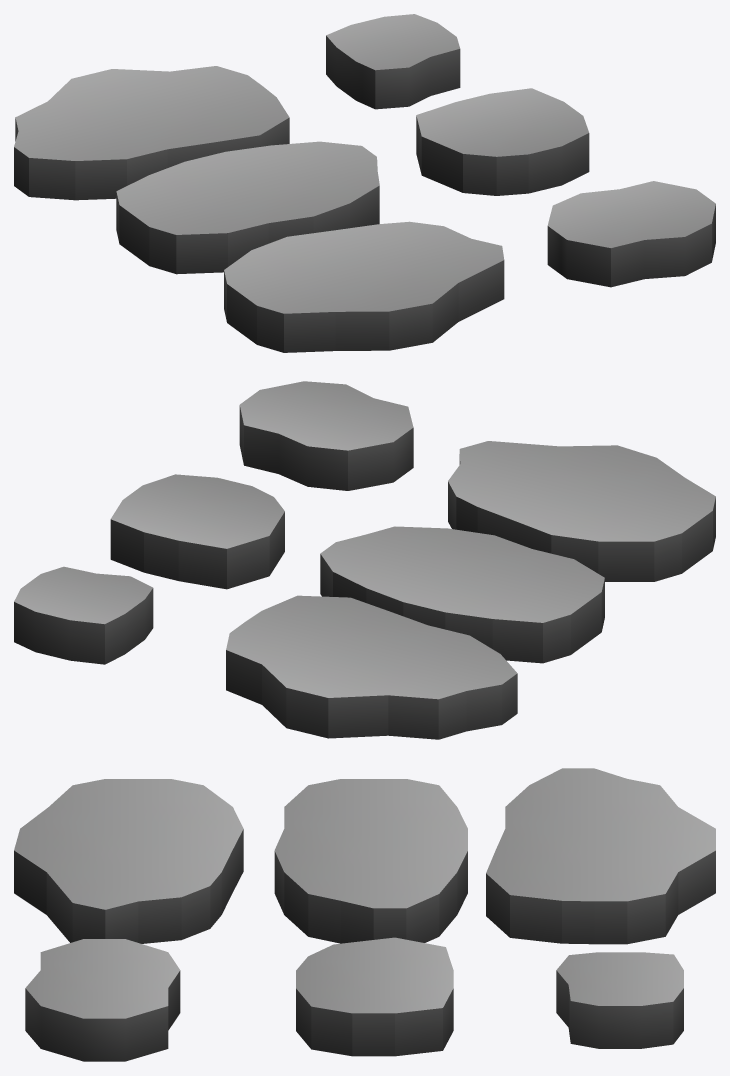
Rendered from Rock Assets.fbx.
3 views of the same model, one above another, from view 1: azimuth 30°, elevation 25°; view 2: azimuth 150°, elevation 25°; view 3: azimuth 270°, elevation 25° (orthographic). The views are drawn at different scales.
Parts seen in each view (by area): view 1: Rock_3, Rock_2, Rock_1, Rock_4, Rock_5, Rock_6; view 2: Rock_2, Rock_3, Rock_1, Rock_4, Rock_5, Rock_6; view 3: Rock_2, Rock_3, Rock_1, Rock_4, Rock_5, Rock_6.
Boxes of the visible parts, x1,y1,x2,y2 form: Rock_3: (224,221,504,352); Rock_2: (14,66,289,200); Rock_1: (116,141,379,274); Rock_4: (416,88,589,195); Rock_5: (547,181,715,287); Rock_6: (326,14,460,109); Rock_2: (226,595,517,739); Rock_3: (448,441,715,581); Rock_1: (320,526,604,663); Rock_4: (110,474,284,589); Rock_5: (239,381,413,490); Rock_6: (14,566,153,664); Rock_2: (486,768,715,944); Rock_3: (14,779,243,943); Rock_1: (274,779,467,943); Rock_4: (296,937,453,1056); Rock_5: (25,939,180,1061); Rock_6: (556,952,683,1048).
Bounding box in the file's own units: 29.49 × 2.36 × 34.98.
